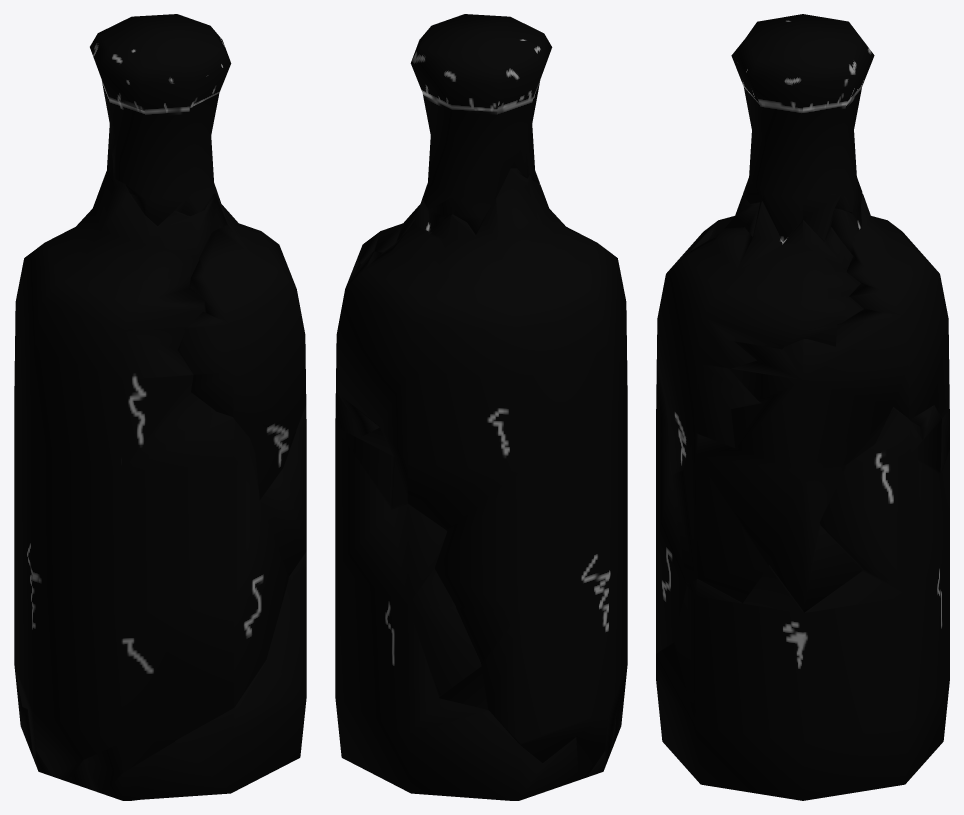
File: bottle_shards.fbx
3 renders of one model, left to right at view 1: azimuth 30°, elevation 25°; view 2: azimuth 150°, elevation 25°; view 3: azimuth 270°, elevation 25°, orthographic.
Visible parts, largest first — view 1: Bottle.006, Bottle.005, BottleShard1, ShardBottom; view 2: Bottle.006, ShardBottom, BottleShard1, Bottle.005; view 3: ShardBottom, Bottle.006, Bottle.005, BottleShard1.
Boxes of the visible parts, x1=… form: Bottle.006: x1=14, y1=155, x2=306, y2=793; Bottle.005: x1=178, y1=190, x2=306, y2=499; BottleShard1: x1=90, y1=14, x2=231, y2=225; ShardBottom: x1=14, y1=551, x2=306, y2=800; Bottle.006: x1=336, y1=168, x2=627, y2=779; ShardBottom: x1=335, y1=392, x2=623, y2=800; BottleShard1: x1=410, y1=14, x2=552, y2=234; Bottle.005: x1=357, y1=204, x2=452, y2=264; ShardBottom: x1=656, y1=405, x2=949, y2=800; Bottle.006: x1=656, y1=193, x2=949, y2=653; Bottle.005: x1=656, y1=201, x2=863, y2=475; BottleShard1: x1=731, y1=14, x2=874, y2=241.
Bounding box in the file's own units: 0.6542 × 1.78 × 0.6542.
